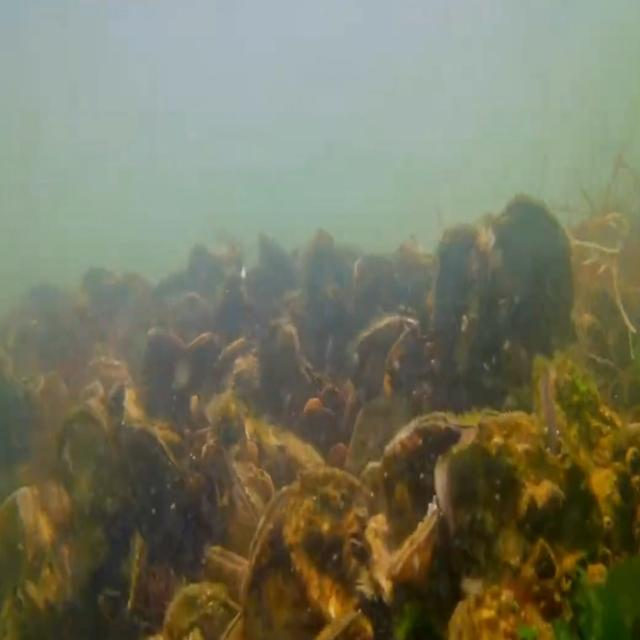Oyster-Closed: (360, 407, 499, 638), (113, 423, 226, 640), (226, 458, 276, 552), (389, 508, 441, 583), (202, 539, 250, 605)
Oyster-Indeterminate: (435, 411, 607, 640), (43, 402, 149, 640), (242, 467, 388, 636), (485, 196, 574, 416), (436, 221, 494, 396)
Oyster-Open: (534, 353, 634, 640), (352, 313, 422, 404)
